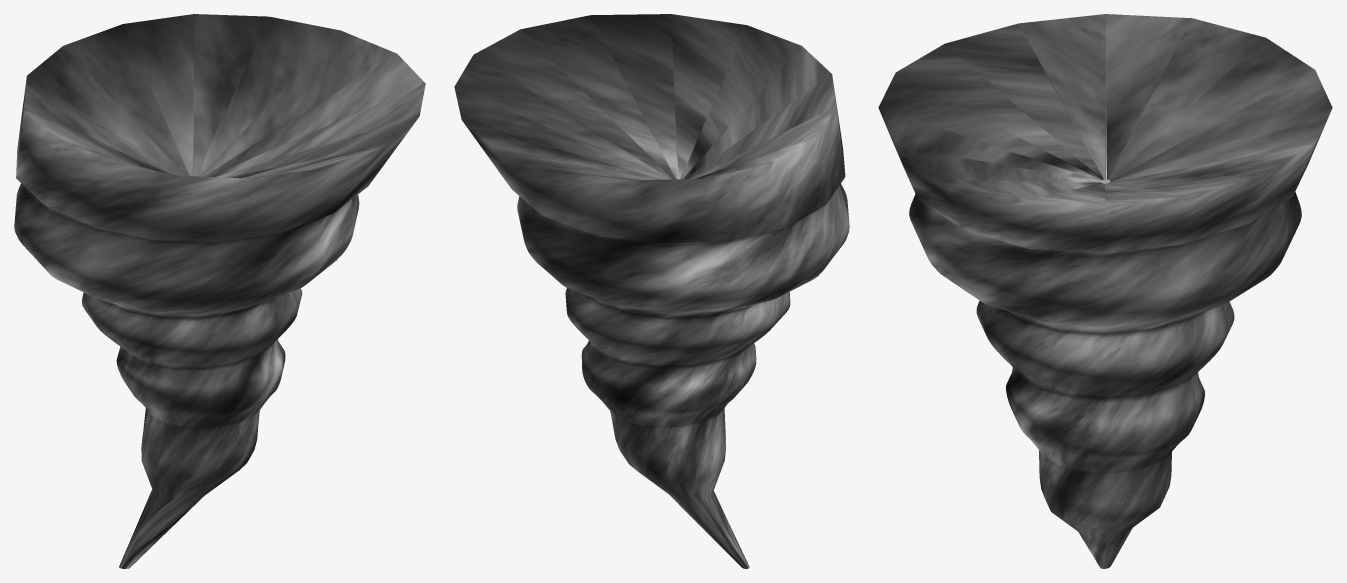
The model's file is mdl_tornado.FBX.
3 views of the same model, side by side, from view 1: azimuth 30°, elevation 25°; view 2: azimuth 150°, elevation 25°; view 3: azimuth 270°, elevation 25° (orthographic). The views are drawn at different scales.
Parts seen in each view (by area): view 1: Line001; view 2: Line001; view 3: Line001.
Boxes of the visible parts, x1,y1,x2,y2 form: Line001: (14,14,425,568); Line001: (454,14,849,568); Line001: (878,14,1332,568).
Size of the model in its own units: 85.36 by 102 by 81.79.
